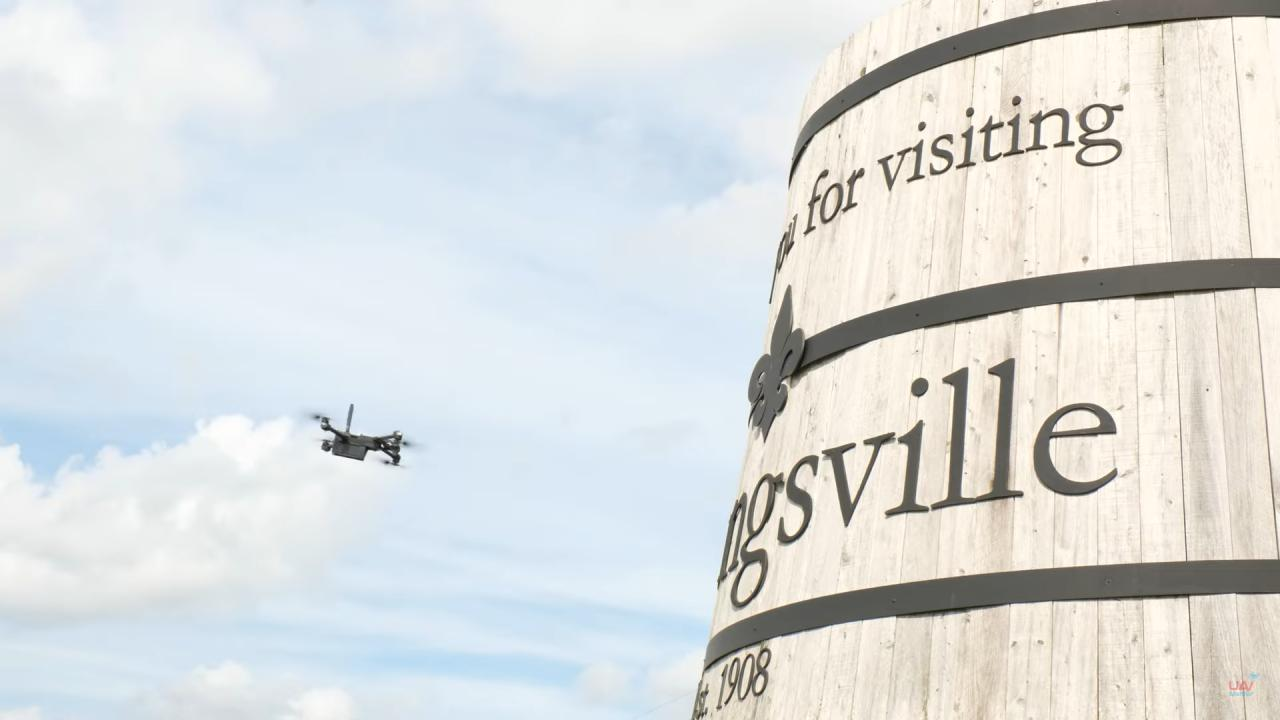Drone: (297, 396, 418, 476)
